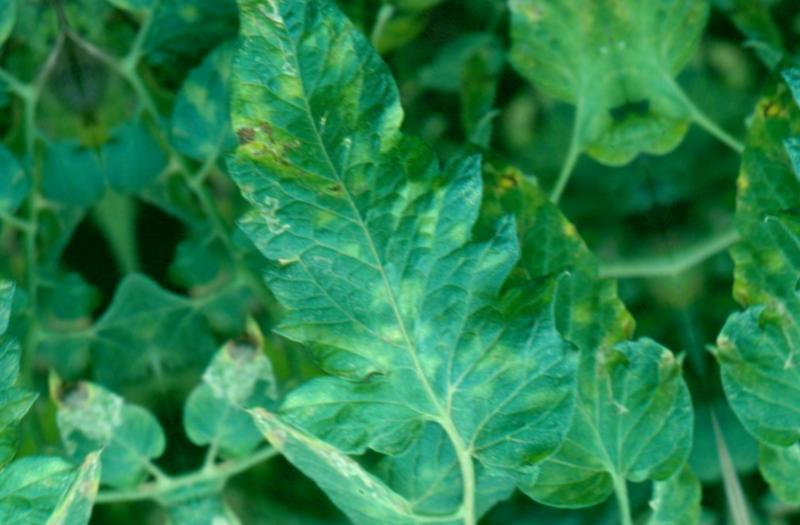Tomato mold leaf: (157, 0, 617, 525)
